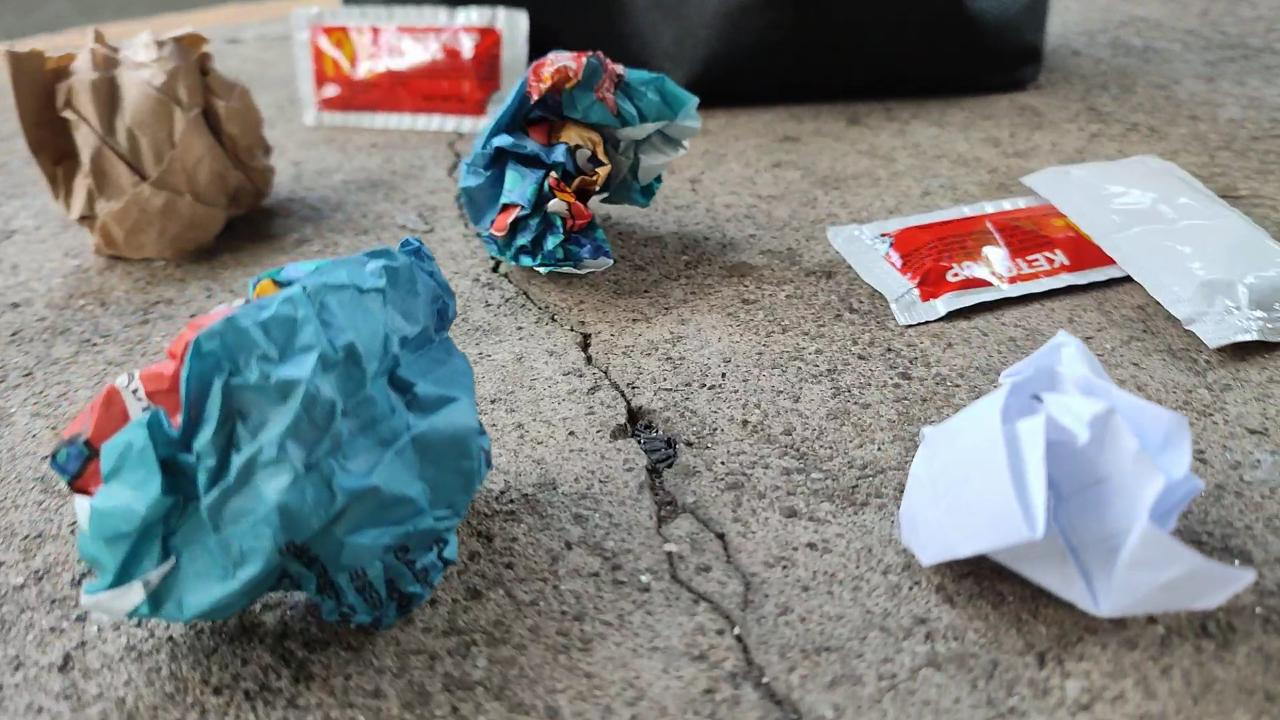Paper: (24, 230, 516, 651), (903, 322, 1258, 683), (1, 24, 286, 260), (451, 42, 709, 288)
